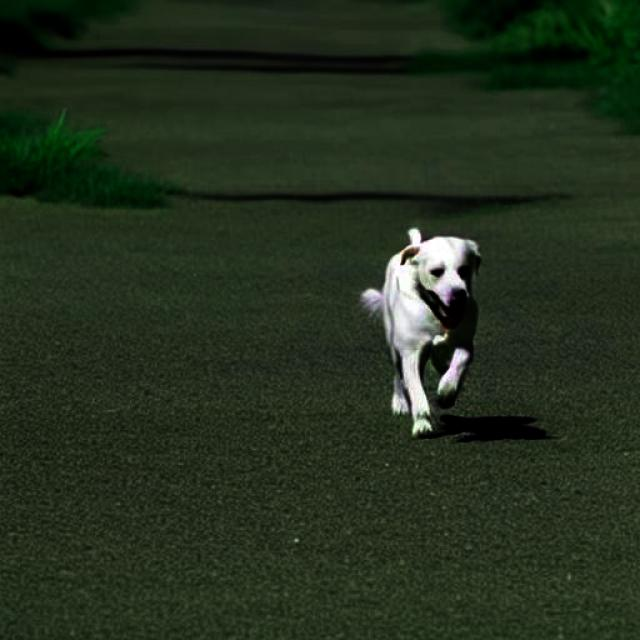Dog: (361, 228, 482, 440)
